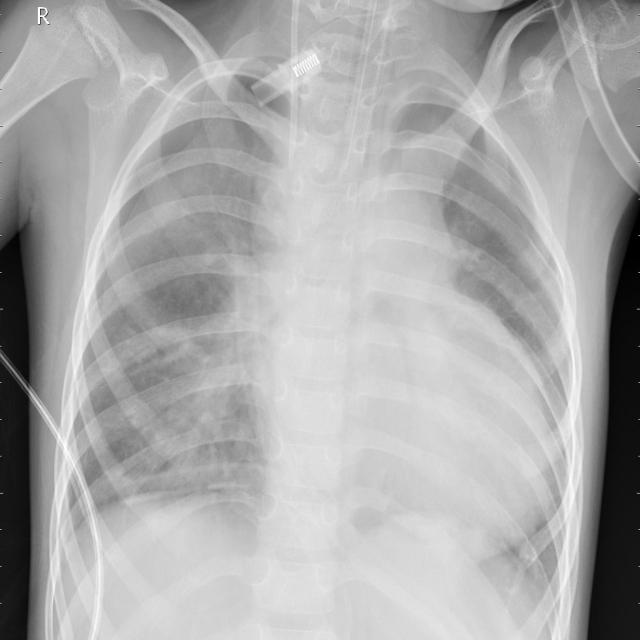high-pneumonia: (136, 105, 278, 293)
low-pneumonia: (111, 310, 264, 494)
